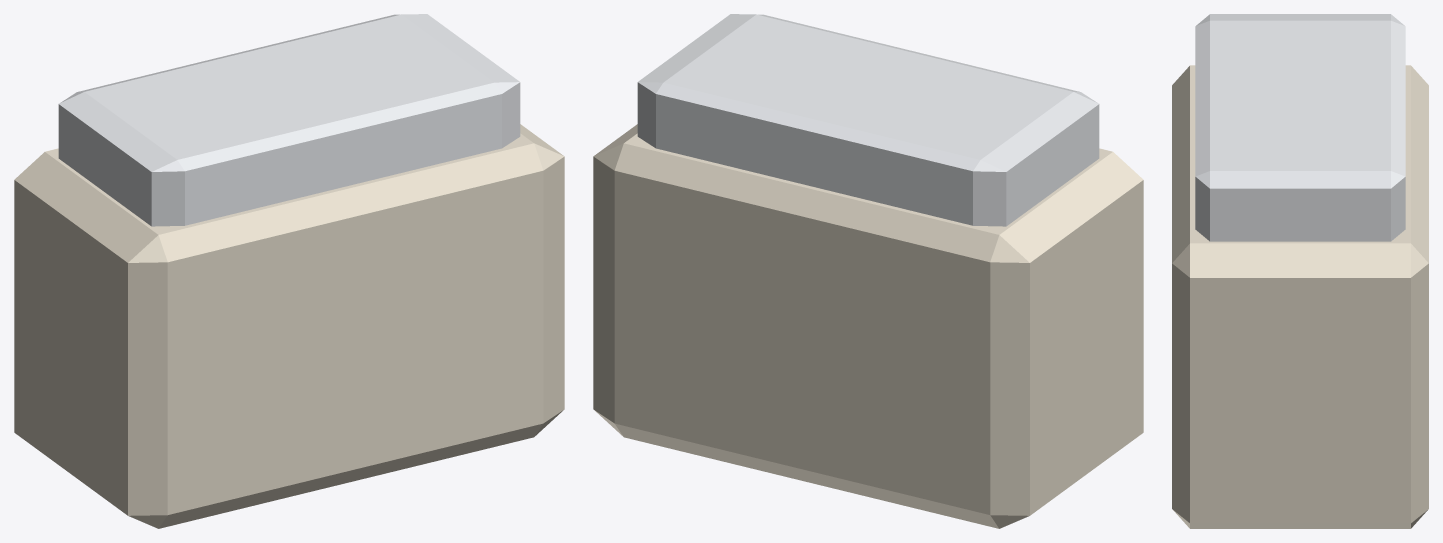
Rendered from b17_sports_duffel_bag.glb.
3 renders of one model, left to right at view 1: azimuth 30°, elevation 25°; view 2: azimuth 150°, elevation 25°; view 3: azimuth 270°, elevation 25°, orthographic. The views are drawn at different scales.
Visible parts, largest first — view 1: b17_sports_duffel_bag; view 2: b17_sports_duffel_bag; view 3: b17_sports_duffel_bag.
Boxes of the visible parts, x1,y1,x2,y2 form: b17_sports_duffel_bag: (14, 14, 564, 528); b17_sports_duffel_bag: (593, 14, 1143, 528); b17_sports_duffel_bag: (1172, 14, 1428, 528).
Bounding box in the file's own units: 0.534 × 0.414 × 0.28.
